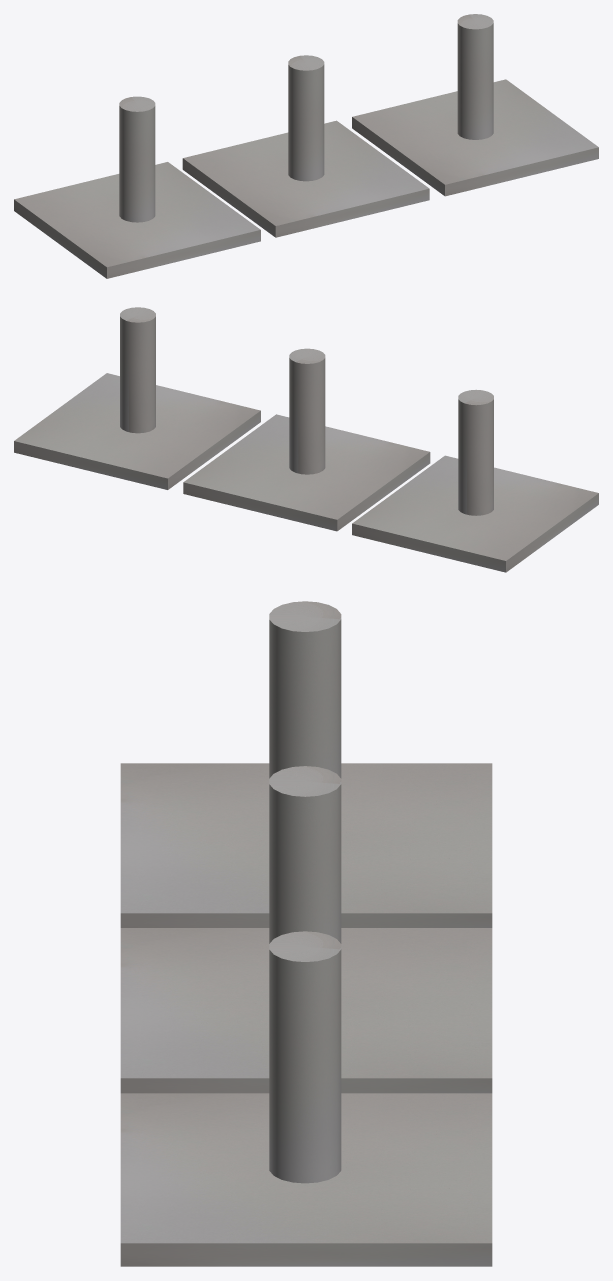
3 views of the same model, one above another, from view 1: azimuth 30°, elevation 25°; view 2: azimuth 150°, elevation 25°; view 3: azimuth 270°, elevation 25° (orthographic). The views are drawn at different scales.
Parts seen in each view (by area): view 1: Box002, Box003, Box001, Cylinder001, Cylinder002, Cylinder003; view 2: Box002, Box001, Box003, Cylinder002, Cylinder003, Cylinder001; view 3: Box003, Box002, Box001, Cylinder003, Cylinder002, Cylinder001.
Boxes of the visible parts, x1=… form: Box002: x1=182, y1=120, x2=429, y2=237; Box003: x1=352, y1=79, x2=598, y2=196; Box001: x1=14, y1=162, x2=260, y2=278; Cylinder001: x1=119, y1=96, x2=155, y2=222; Cylinder002: x1=288, y1=55, x2=324, y2=181; Cylinder003: x1=457, y1=14, x2=493, y2=139; Box002: x1=183, y1=414, x2=430, y2=531; Box001: x1=352, y1=455, x2=598, y2=572; Box003: x1=14, y1=373, x2=260, y2=489; Cylinder002: x1=289, y1=348, x2=325, y2=474; Cylinder003: x1=120, y1=307, x2=155, y2=433; Cylinder001: x1=458, y1=389, x2=493, y2=515; Box003: x1=120, y1=1093, x2=492, y2=1266; Box002: x1=120, y1=928, x2=492, y2=1093; Box001: x1=120, y1=763, x2=492, y2=927; Cylinder003: x1=269, y1=931, x2=341, y2=1183; Cylinder002: x1=269, y1=766, x2=341, y2=943; Cylinder001: x1=269, y1=601, x2=341, y2=778.
Size of the model in its own units: 24.81 by 5.89 by 8.11.
1 material, 1 textured.
